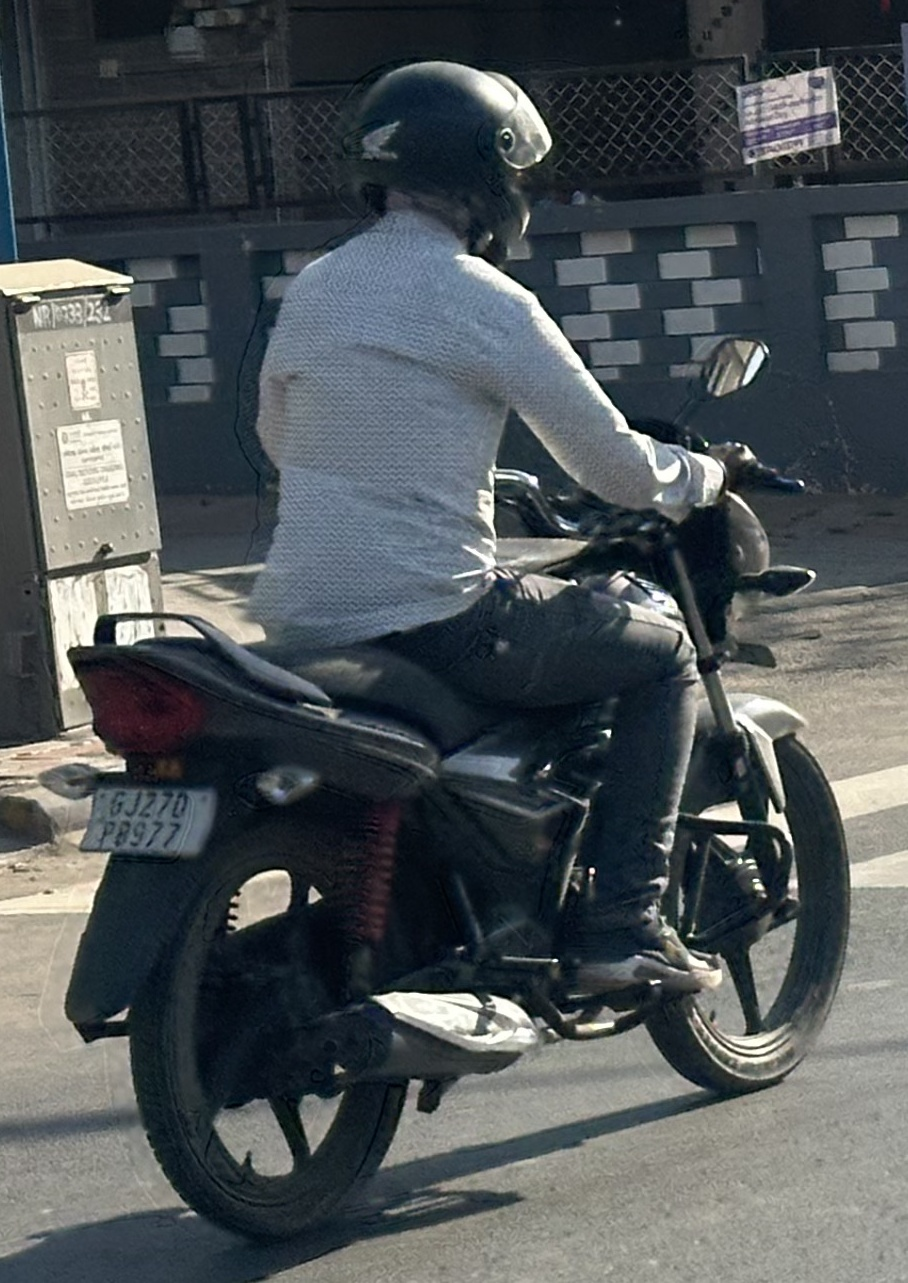BikeWithRider: (35, 45, 868, 1253)
Helmet: (321, 46, 568, 275)
